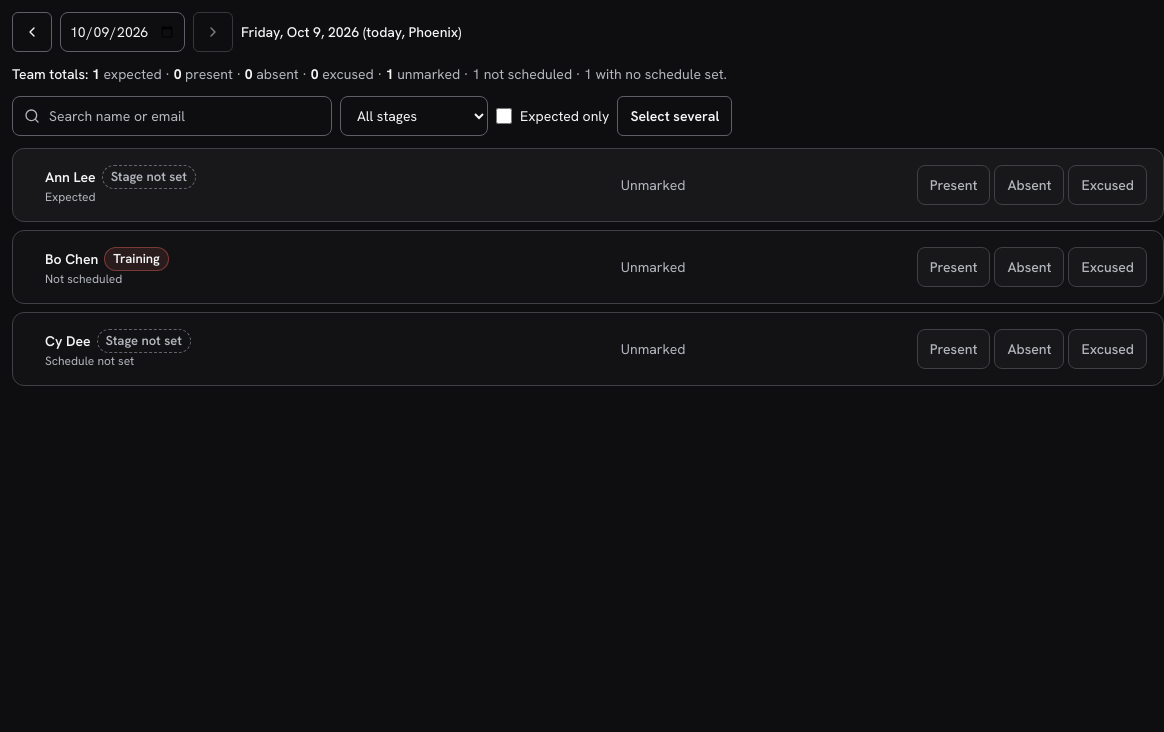
Test: attendance selection belongs to its date › clears selected people when the date changes
Later steps or results of the test are not shown.
Check: the text "Ann Lee" is shown, box [45,167,96,187]
Click the button "Select several" at coordinates (675, 116), box [617,96,732,136]
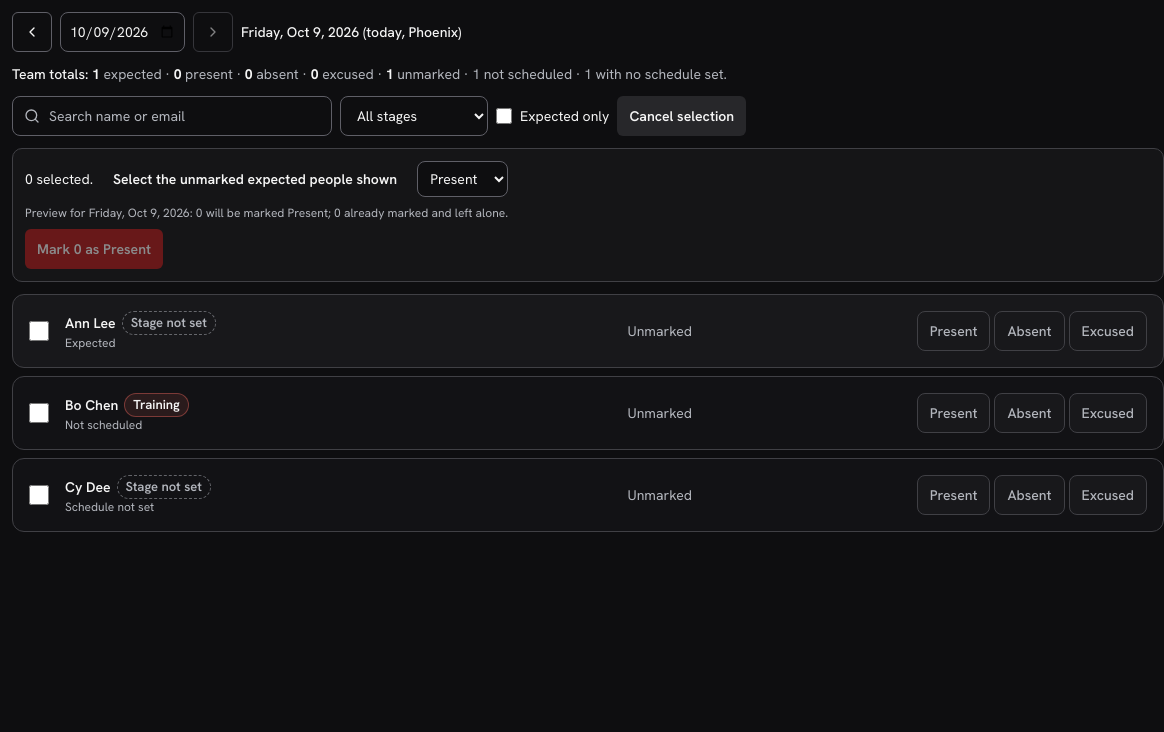
Click the checkbox named "Select Ann Lee" at coordinates (39, 331), box [29,321,49,341]
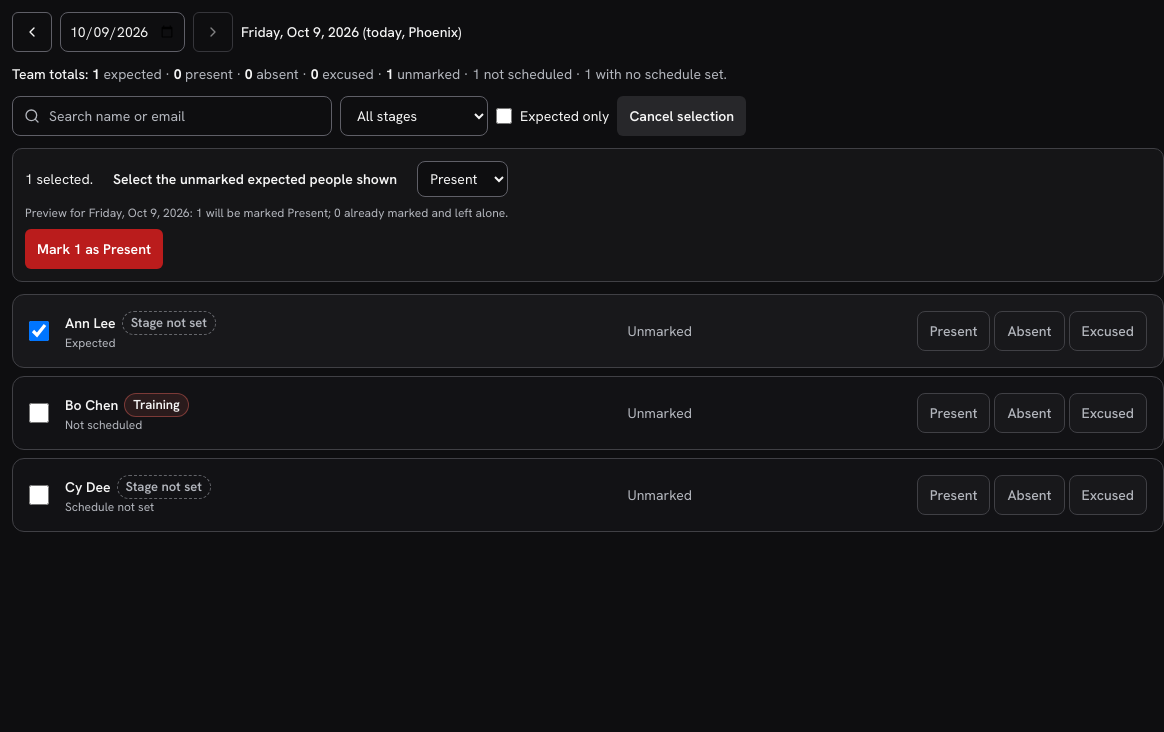
Check: the text "1 selected." is shown, box [25,169,93,189]
